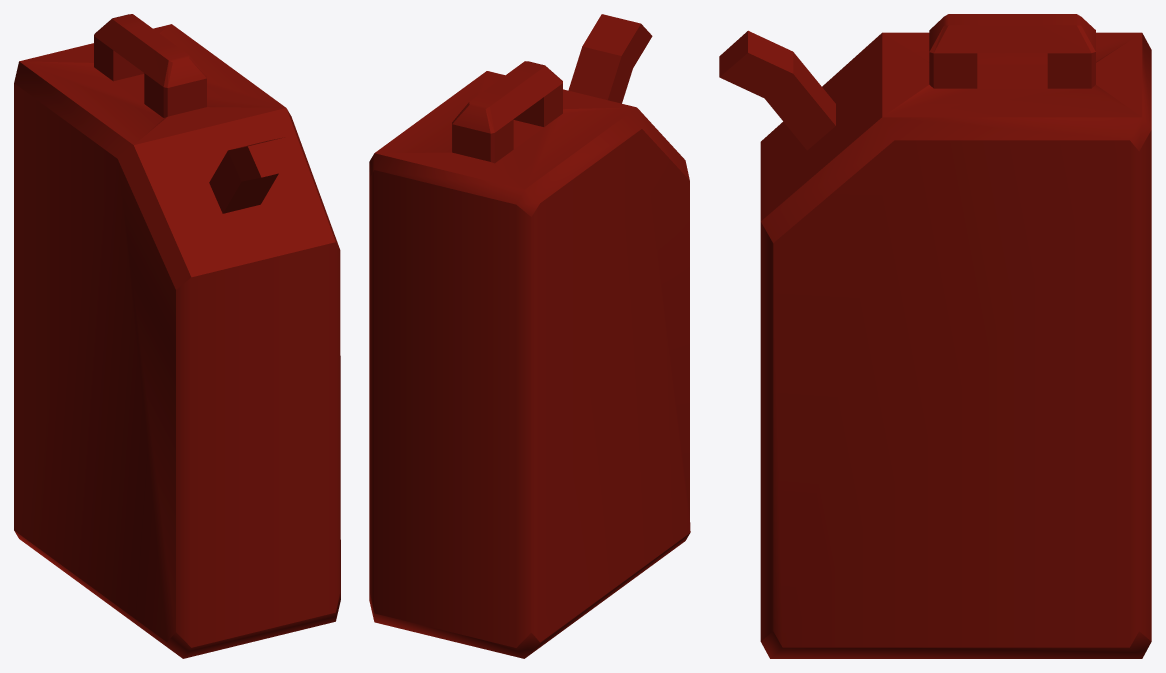
Rendered from GalosinaCarro.fbx.
The picture shows the model from 3 angles, left to right: view 1: azimuth 30°, elevation 25°; view 2: azimuth 150°, elevation 25°; view 3: azimuth 270°, elevation 25°; orthographic projection. The views are drawn at different scales.
Parts seen in each view (by area): view 1: Box093; view 2: Box093; view 3: Box093.
Boxes of the visible parts, x1,y1,x2,y2 form: Box093: (14,14,340,658); Box093: (369,14,690,658); Box093: (719,14,1151,658).
Size of the model in its own units: 26.93 by 77.78 by 51.12.
